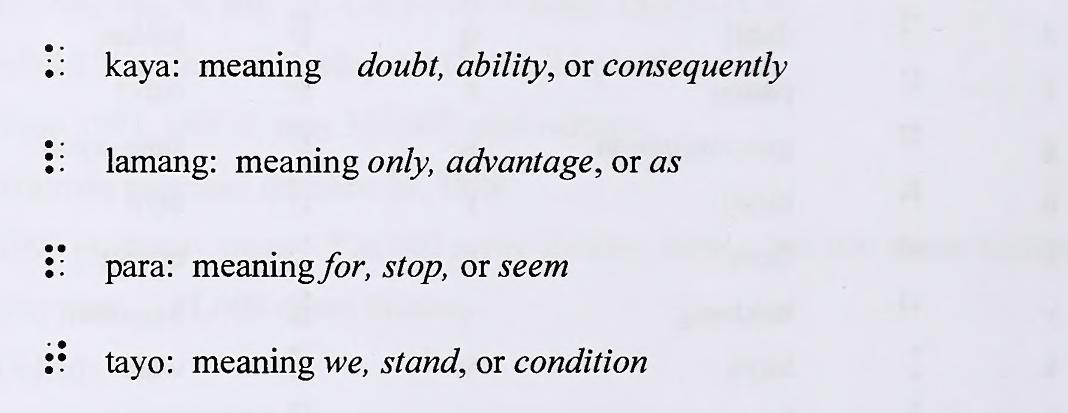kaya: (45, 44, 67, 79)
lamang: (44, 139, 67, 174)
para: (43, 243, 66, 280)
tayo: (42, 339, 68, 376)
